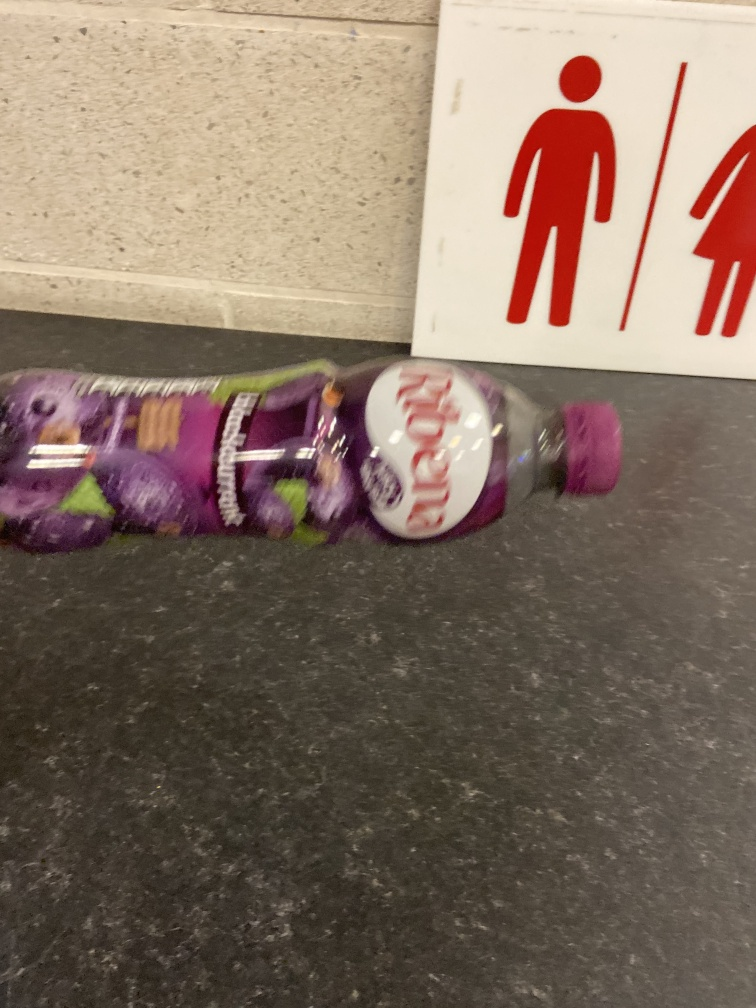bottle_purple: (3, 346, 641, 560)
